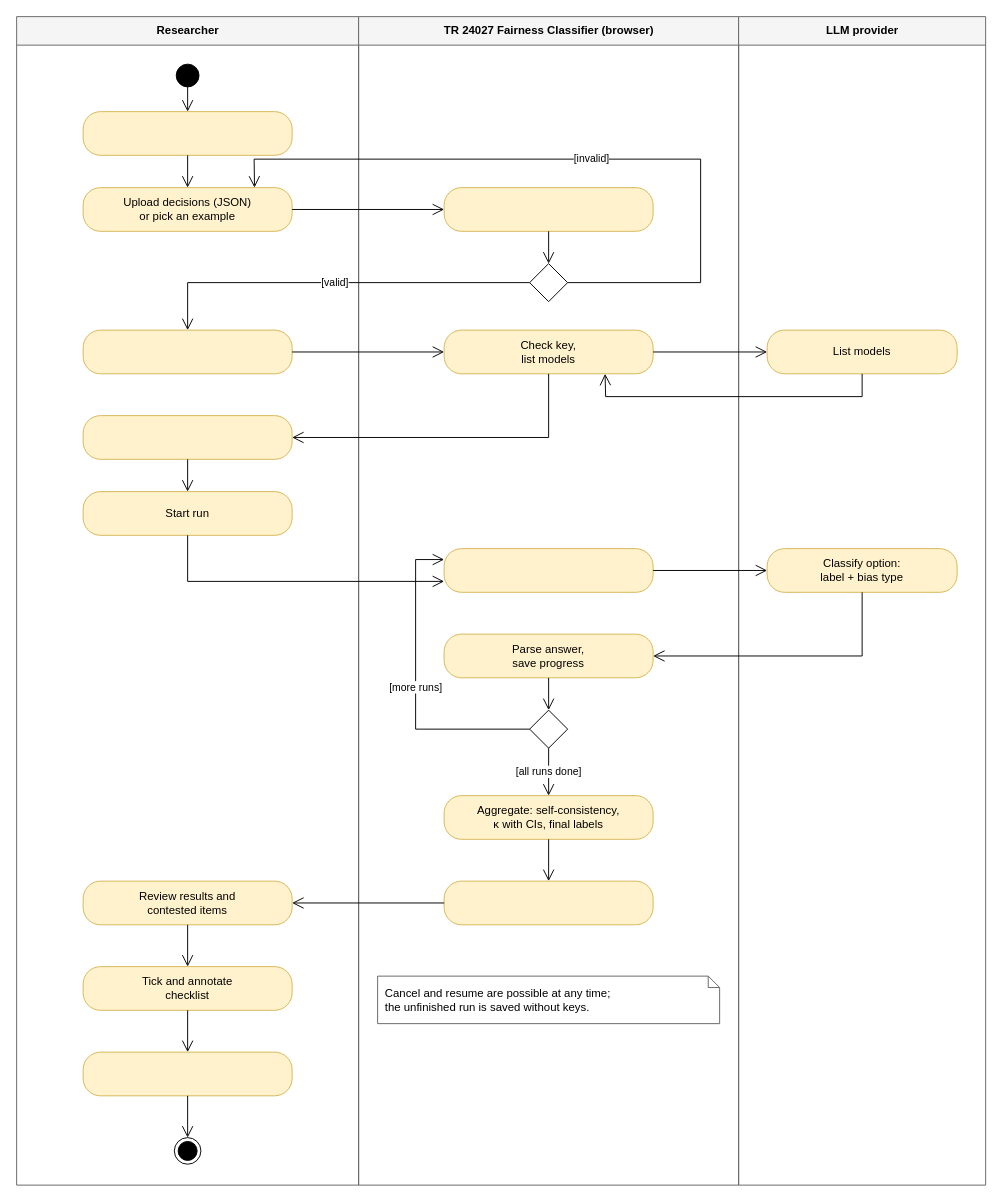
This 1002x1202 diagram has some shape labels left out. The shapes that lost their labels are listed below. From the top down, each one's centre as x and y in pixels, then its label:
pixel 187 133: Open the tool
pixel 548 209: Validate input and show items
pixel 187 351: Enter models and own API keys
pixel 187 437: Choose route and settings
pixel 548 570: Send prompt for item × model × run
pixel 548 902: Show dashboard and TR 24027 checklist
pixel 187 1073: Download report (HTML, CSV, JSON)
